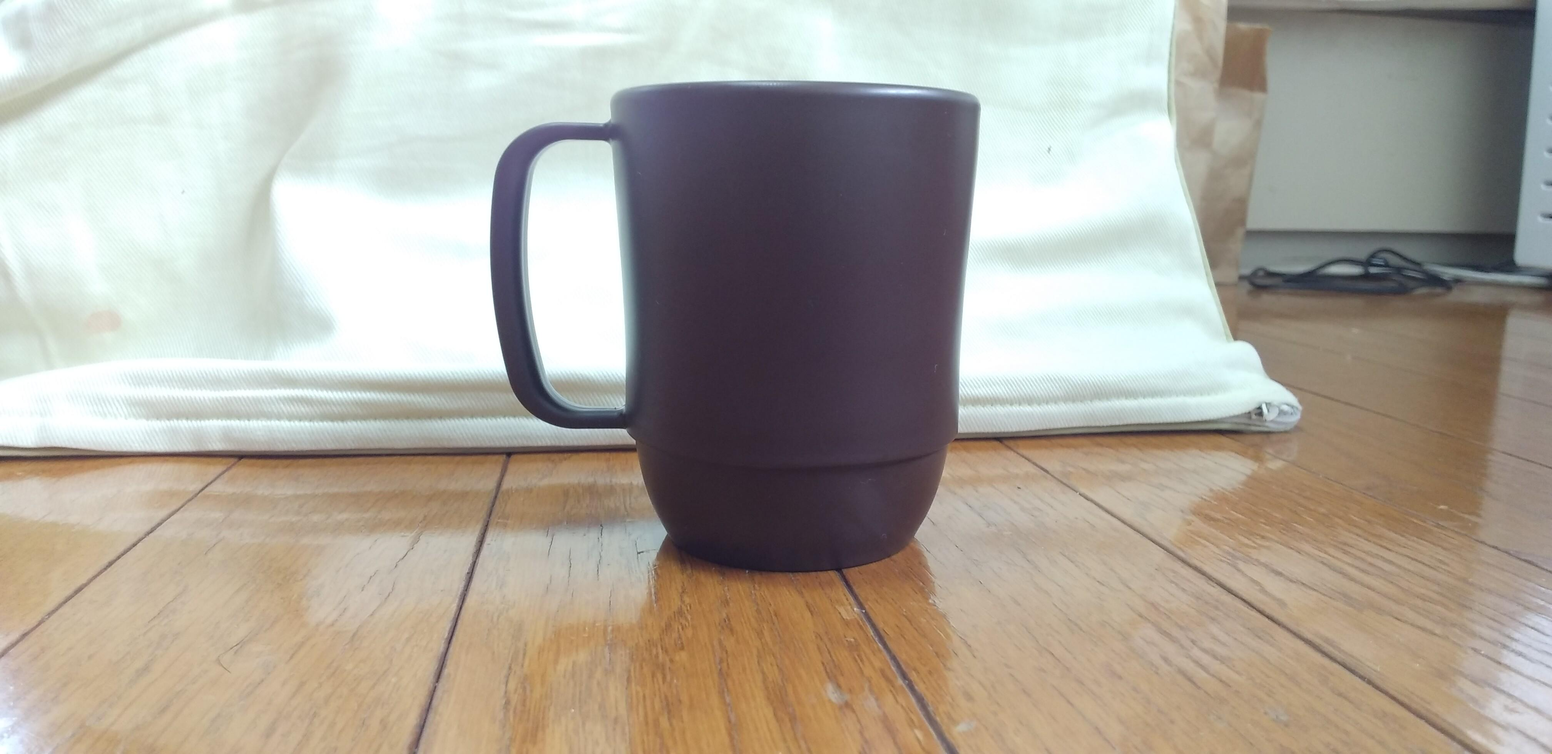mug-real100-3d100: (490, 81, 979, 571)
